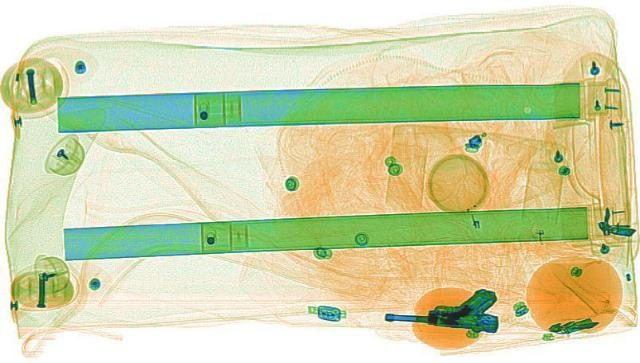Gun: (379, 279, 506, 331)
